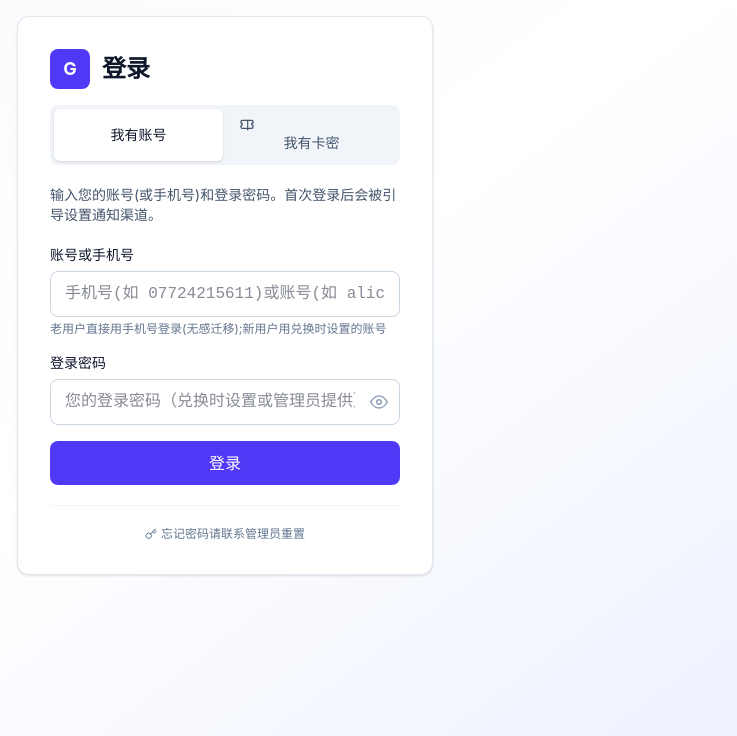
Test: <LoginPage /> › 登录失败 → 显示后端错误信息
The width and height of the screenshot is (737, 736).
Step 1. Type "alice_2024" into the field with placeholder "手机号(如 07724215611)或账号(如 alice_2024)" → [225, 294], box [50,271,400,317]
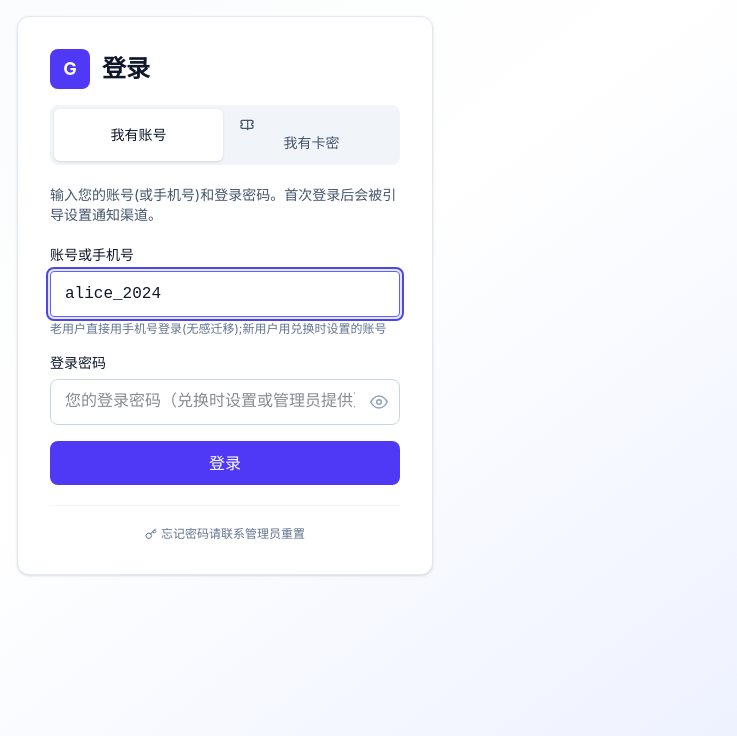
Step 2. Type "wrong" into the password field with placeholder "您的登录密码（兑换时设置或管理员提供）" → [225, 402], box [50,379,400,425]
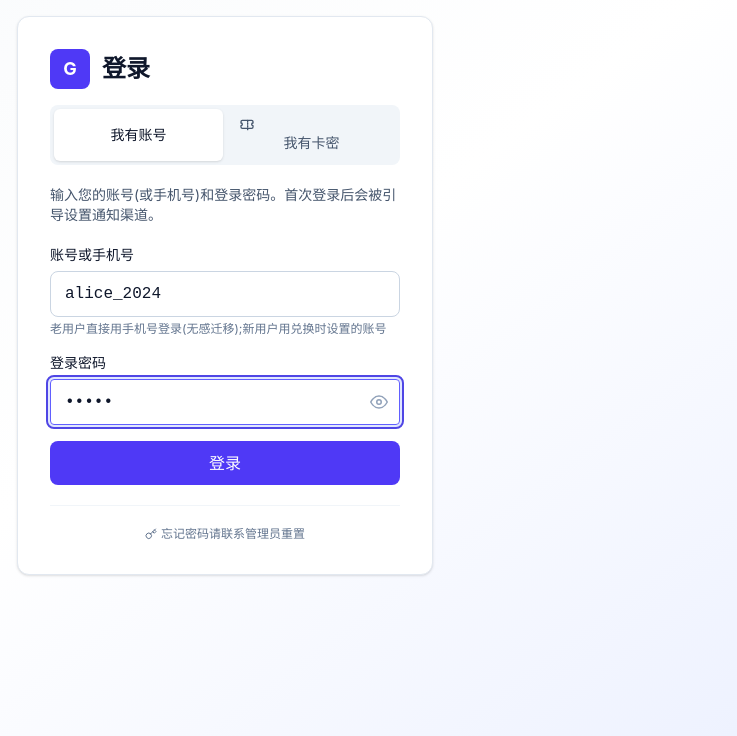
Step 3. Click the button "登录" → [225, 463], box [50,441,400,485]
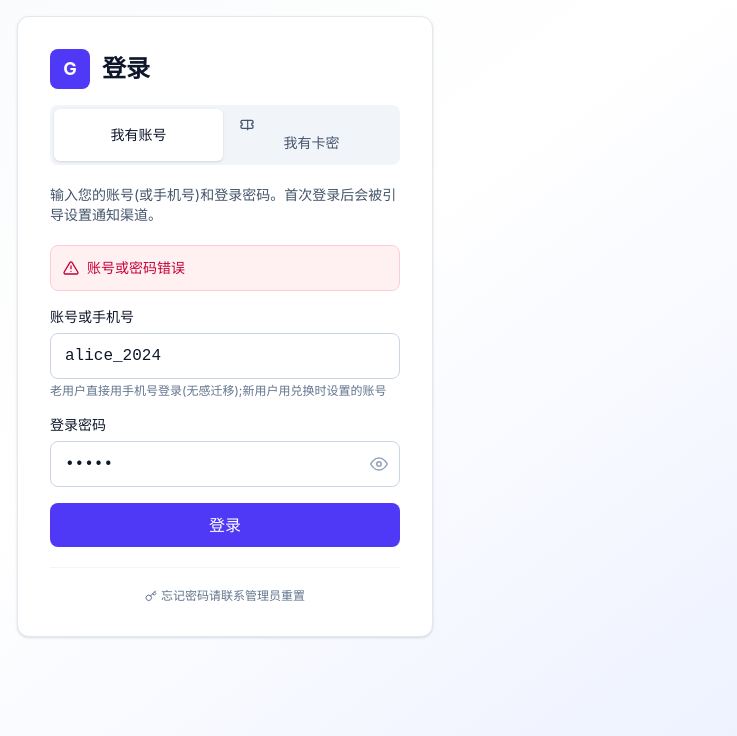
Expected: the text "账号或密码错误" is shown, [87,258,185,278]
